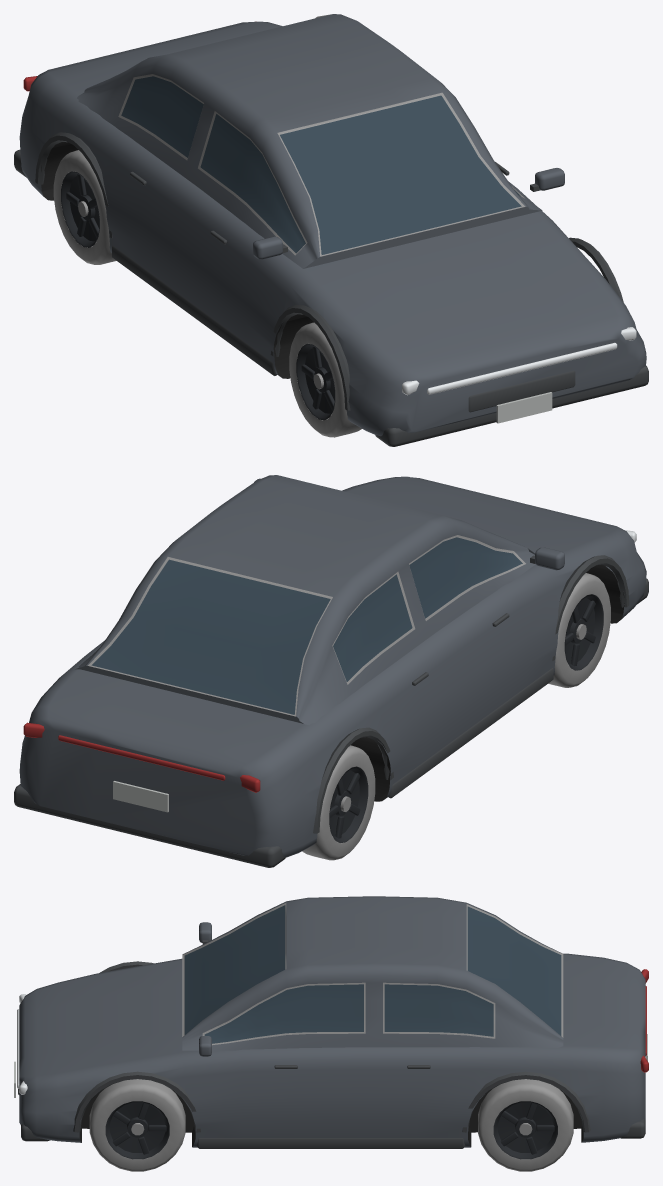
Rendered from Car_Sedan.fbx.
The picture shows the model from 3 angles, top to bottom: view 1: azimuth 30°, elevation 25°; view 2: azimuth 150°, elevation 25°; view 3: azimuth 270°, elevation 25°; orthographic projection. The views are drawn at different scales.
Visible parts, largest first — view 1: Car_Sedan_LOD0; view 2: Car_Sedan_LOD0; view 3: Car_Sedan_LOD0.
Boxes of the visible parts, x1,y1,x2,y2 form: Car_Sedan_LOD0: (14, 14, 648, 446); Car_Sedan_LOD0: (14, 475, 648, 867); Car_Sedan_LOD0: (14, 896, 648, 1171).
Size of what is drawn, in the model's own units: 2.03 by 1.45 by 4.4.
